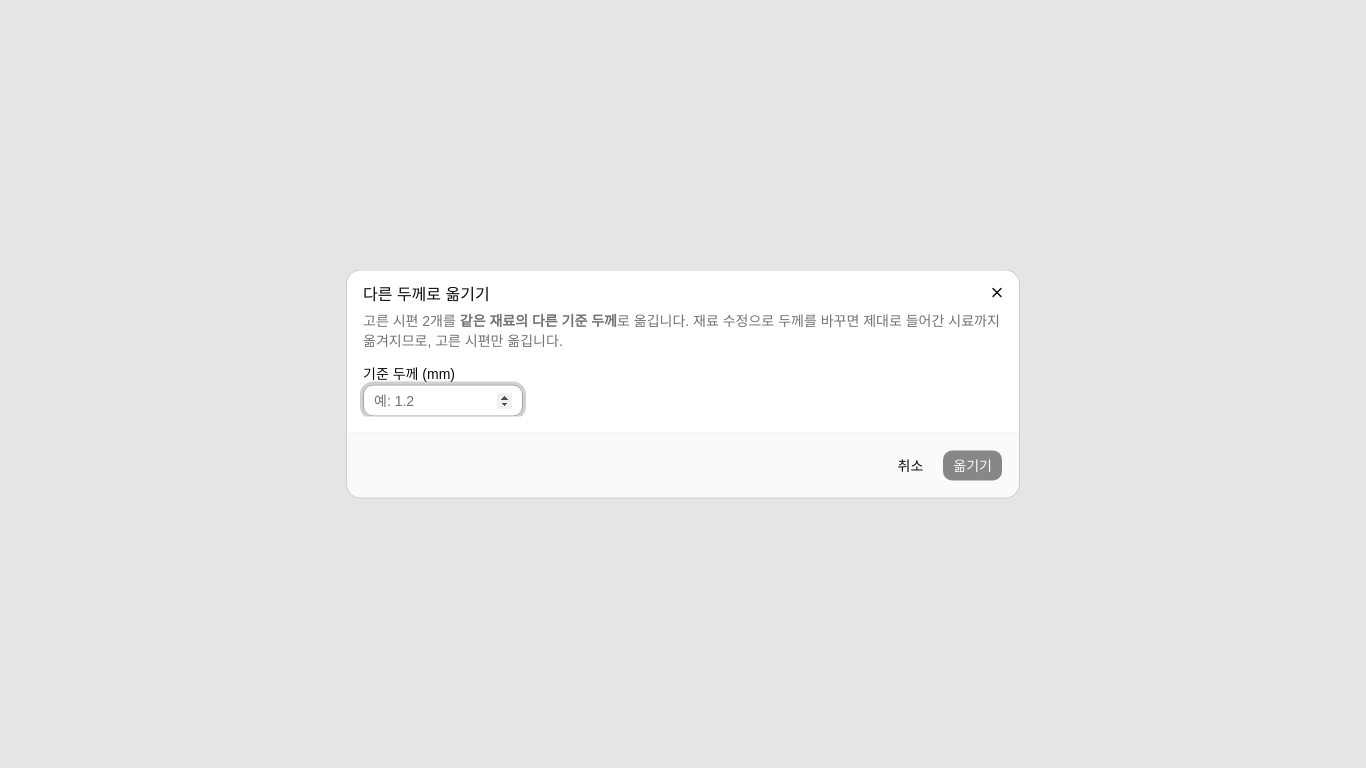
RelocateDialog › 두께를 적으면 화면 단위와 함께 계획을 묻고, 무엇이 어디로 가는지 보인다
Type "1.2" into the number field labelled "기준 두께 (mm)" at (443, 400), box 363,384 -> 523,416
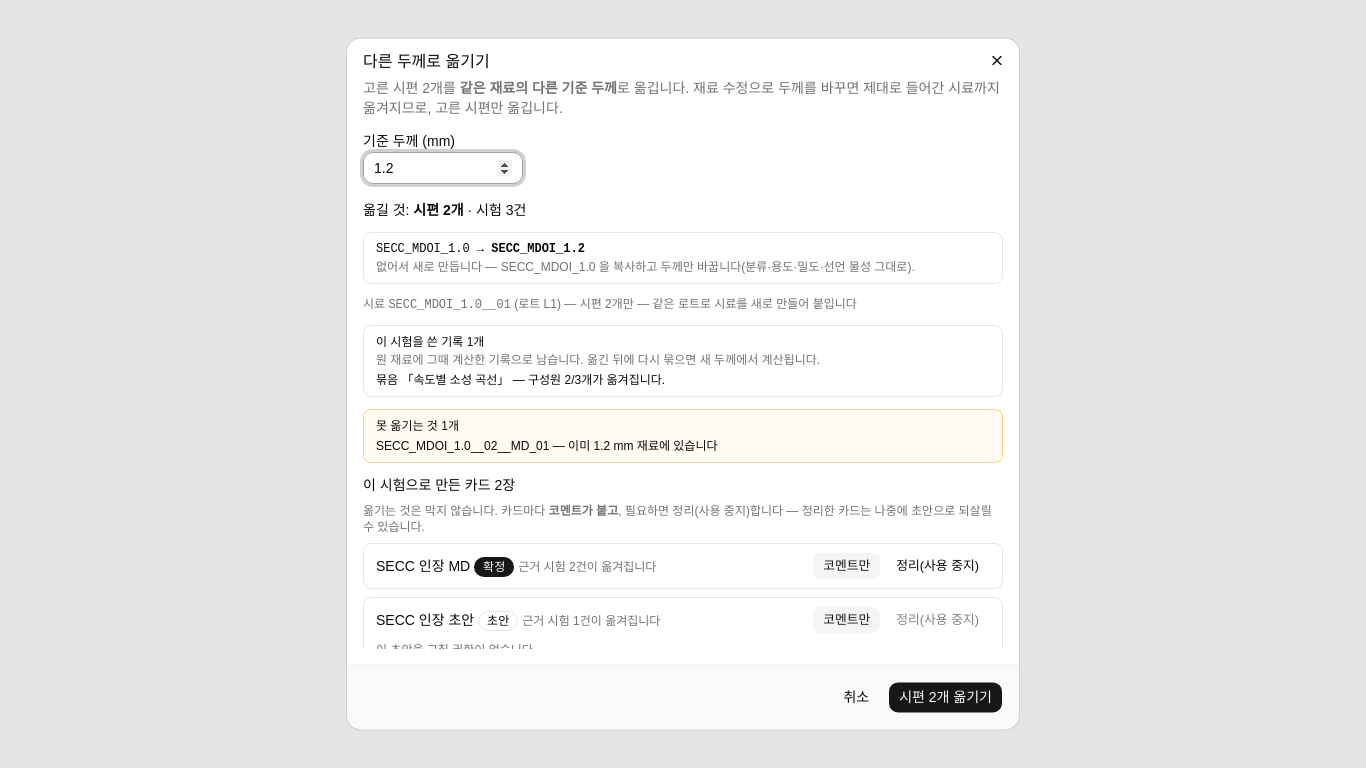
Check: the text "없어서 새로 만듭니다" is shown, box 376,260 -> 915,274
Check: the list item "같은 로트로 시료를 새로 만들어 붙입니다" is shown, box 580,297 -> 857,311
Check: the list item "SECC_MDOI_1.0__02__MD_01 — 이미 1.2 mm 재료에 있습니다" is shown, box 376,439 -> 718,453
